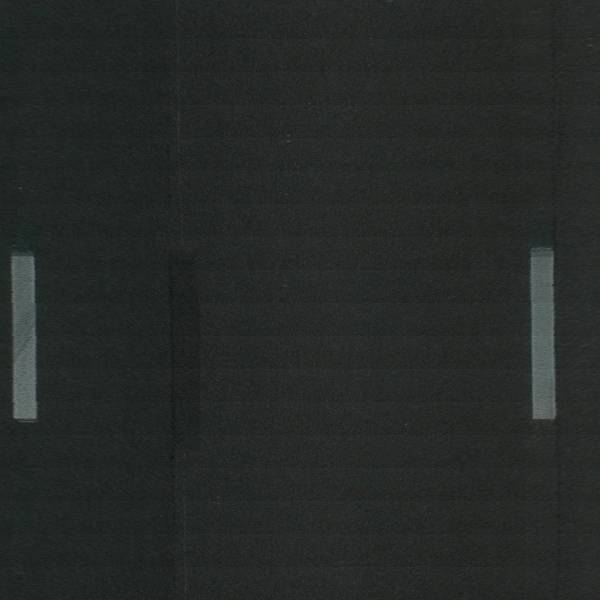road_damage: (168, 1, 187, 239)
